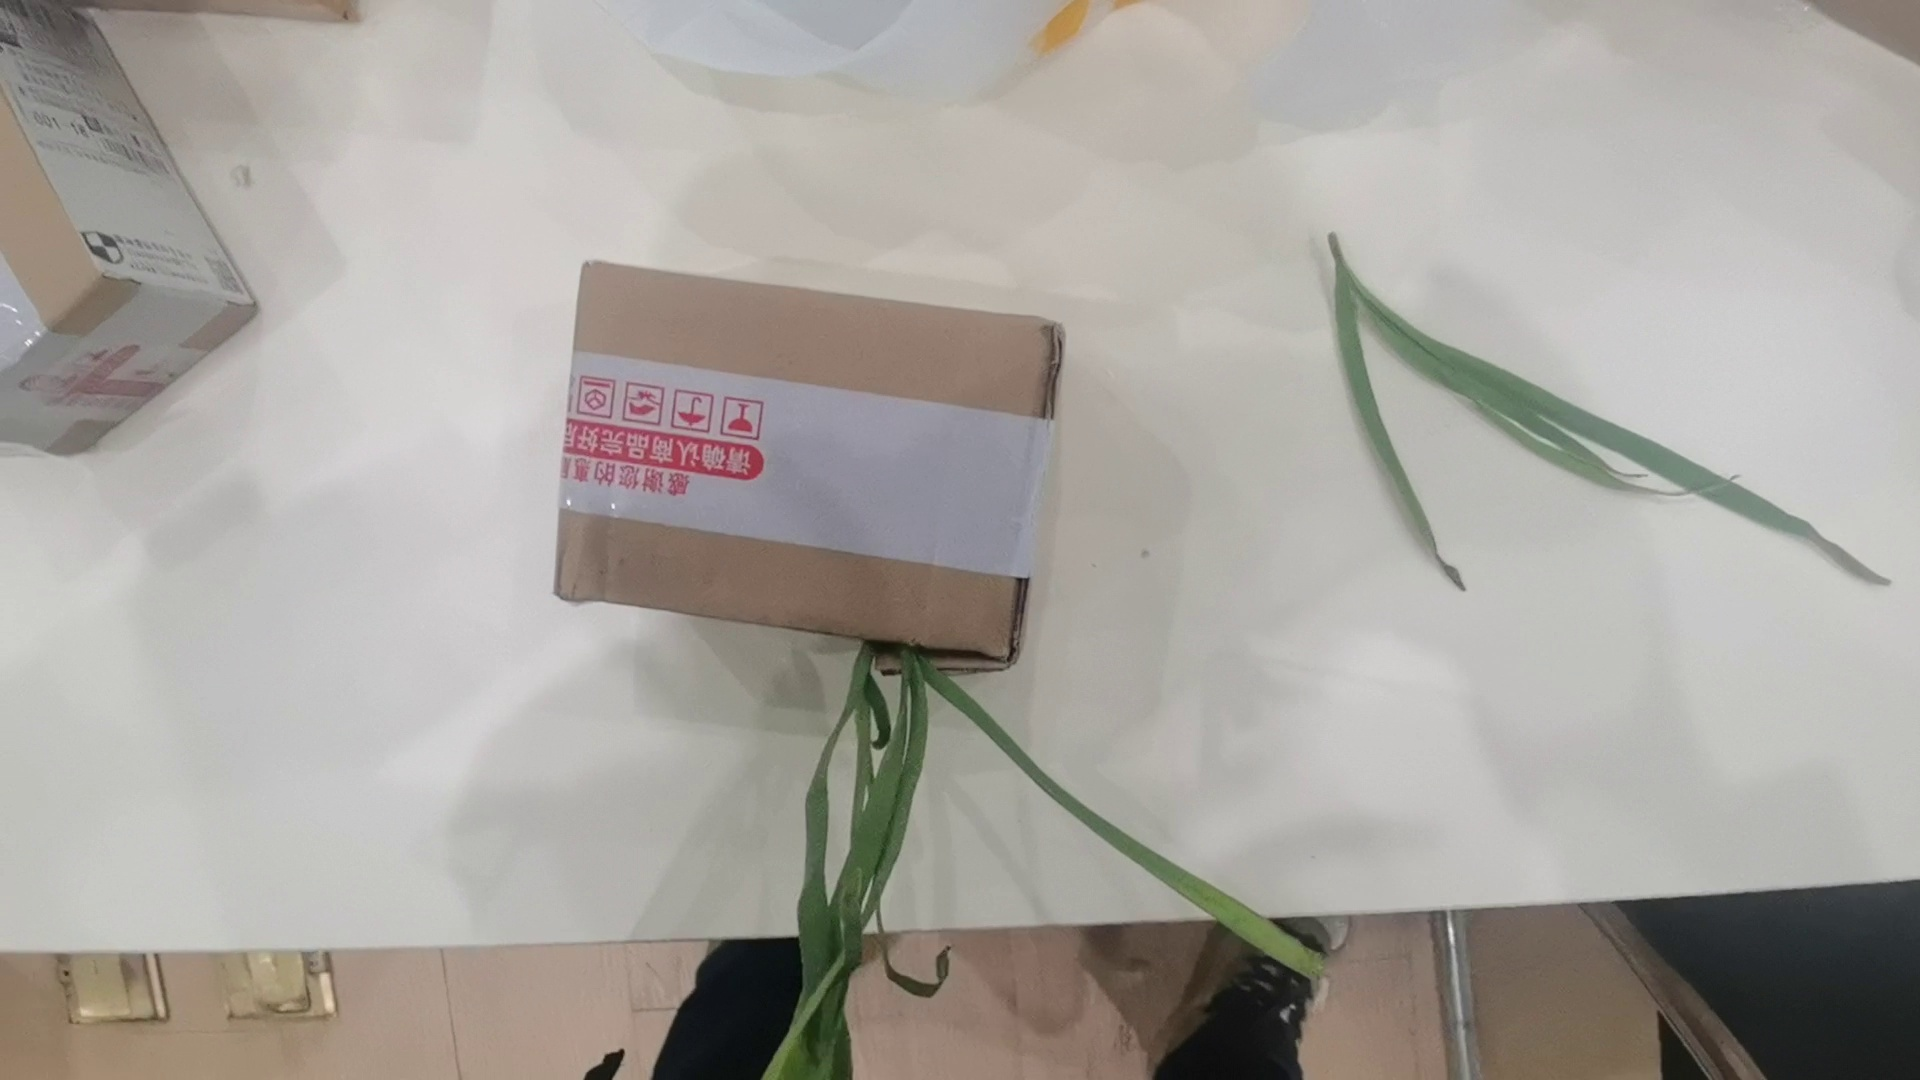chives: (674, 620, 1390, 1080), (1308, 229, 1908, 597)
